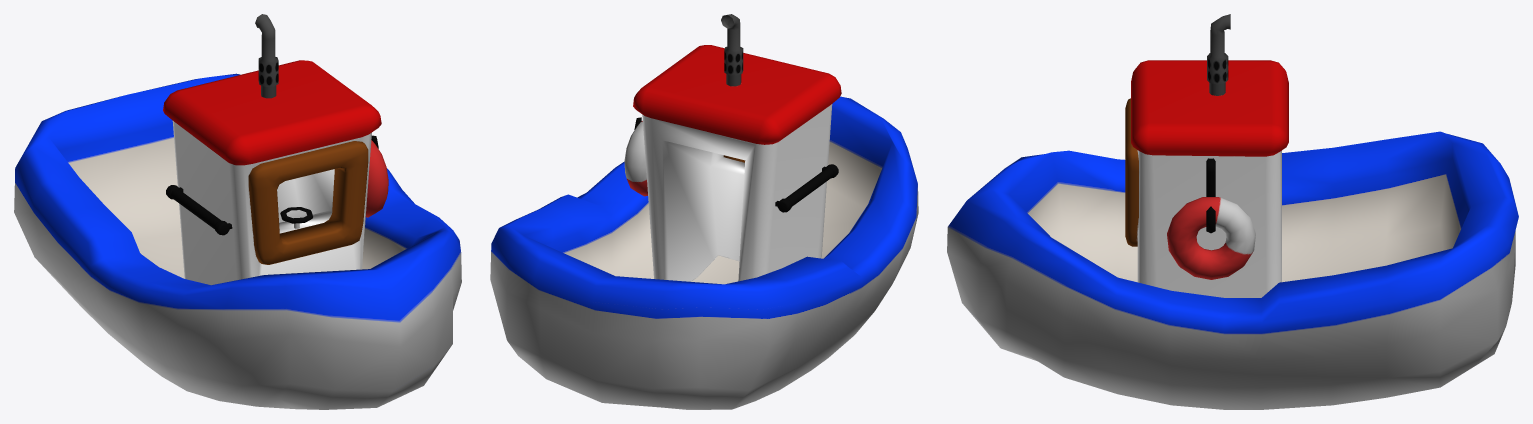
3 views of the same model, side by side, from view 1: azimuth 30°, elevation 25°; view 2: azimuth 150°, elevation 25°; view 3: azimuth 270°, elevation 25° (orthographic). The views are drawn at different scales.
Parts seen in each view (by area): view 1: StylizedBoat_LP, cover, windowCover, smoke, tube, pCylinder4, steeringWheel; view 2: StylizedBoat_LP, cover, tube, smoke, pCylinder4; view 3: StylizedBoat_LP, cover, tube, windowCover, smoke, tubeHook.
Part boxes in pixels (bbox=[...]): StylizedBoat_LP: bbox=[14, 73, 461, 409]; cover: bbox=[163, 60, 381, 285]; windowCover: bbox=[248, 141, 368, 264]; smoke: bbox=[255, 14, 278, 98]; tube: bbox=[365, 140, 388, 217]; pCylinder4: bbox=[171, 189, 220, 229]; steeringWheel: bbox=[280, 207, 312, 223]; StylizedBoat_LP: bbox=[490, 96, 918, 409]; cover: bbox=[633, 45, 841, 281]; tube: bbox=[624, 121, 647, 196]; smoke: bbox=[721, 14, 743, 86]; pCylinder4: bbox=[785, 168, 833, 206]; StylizedBoat_LP: bbox=[947, 131, 1518, 409]; cover: bbox=[1131, 60, 1288, 297]; tube: bbox=[1167, 197, 1255, 279]; windowCover: bbox=[1125, 98, 1138, 246]; smoke: bbox=[1207, 14, 1230, 95]; tubeHook: bbox=[1206, 158, 1215, 233].
Bounding box in the file's own units: 14.7 × 15.91 × 22.8.
1 material, 1 textured.
